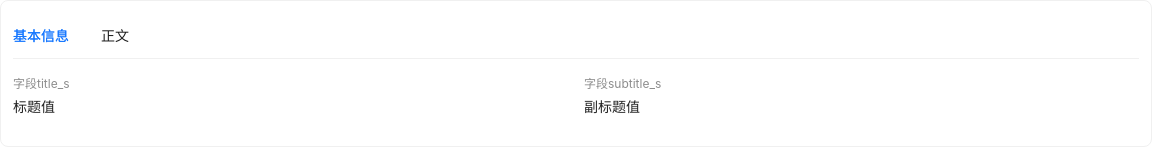
it: ContentReadOnlyView（按模型布局只读渲染） › 页签组按模型顺序渲染，字段出现在其页签页面内
Expected: the tab "基本信息" is shown, [13,25,69,47]
Expected: the text "字段title_s" is shown, [13,76,70,91]
Click the text "正文": (115, 36) [101,27,129,44]
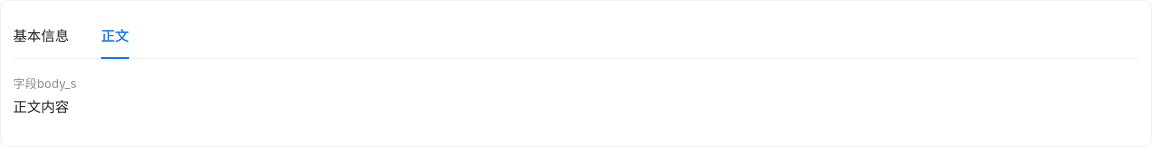
Expected: the text "正文内容" is shown, [13,98,69,115]
